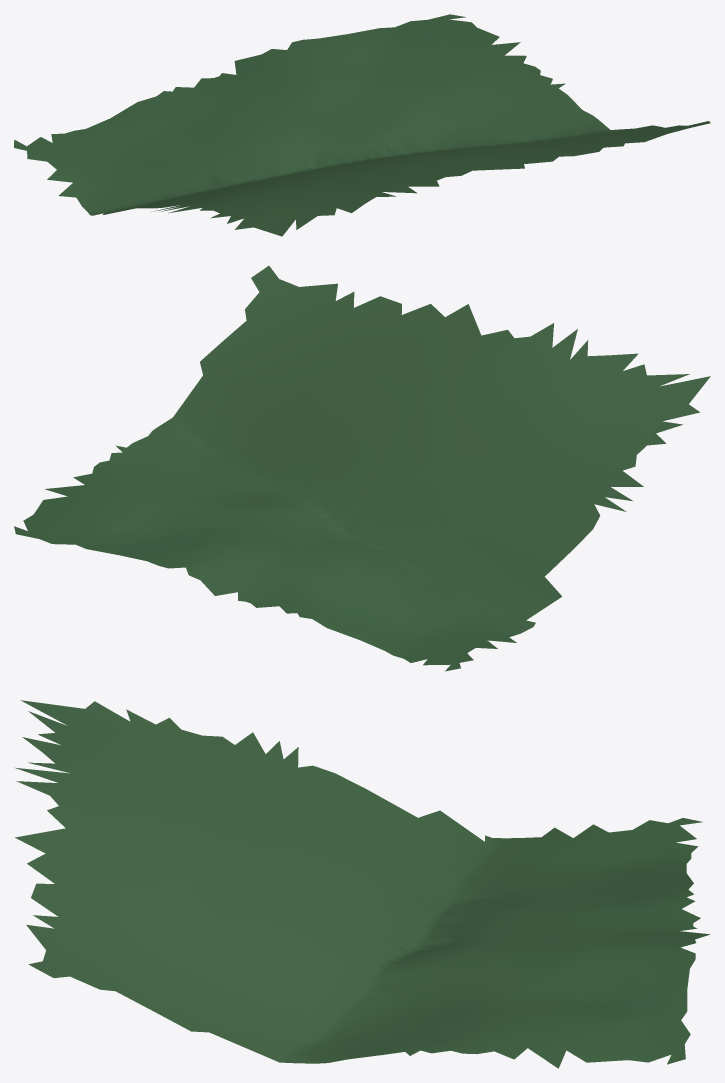
File: payo_land_x2_y9_lod1.glb
The picture shows the model from 3 angles, top to bottom: view 1: azimuth 30°, elevation 25°; view 2: azimuth 150°, elevation 25°; view 3: azimuth 270°, elevation 25°; orthographic projection. The views are drawn at different scales.
Visible parts, largest first — view 1: payo_land_x2_y9; view 2: payo_land_x2_y9; view 3: payo_land_x2_y9.
Part boxes in pixels (bbox=[...]): payo_land_x2_y9: bbox=[14, 14, 710, 236]; payo_land_x2_y9: bbox=[14, 266, 710, 671]; payo_land_x2_y9: bbox=[14, 700, 710, 1068].
Size of the model in its own units: 278 by 69.76 by 275.
